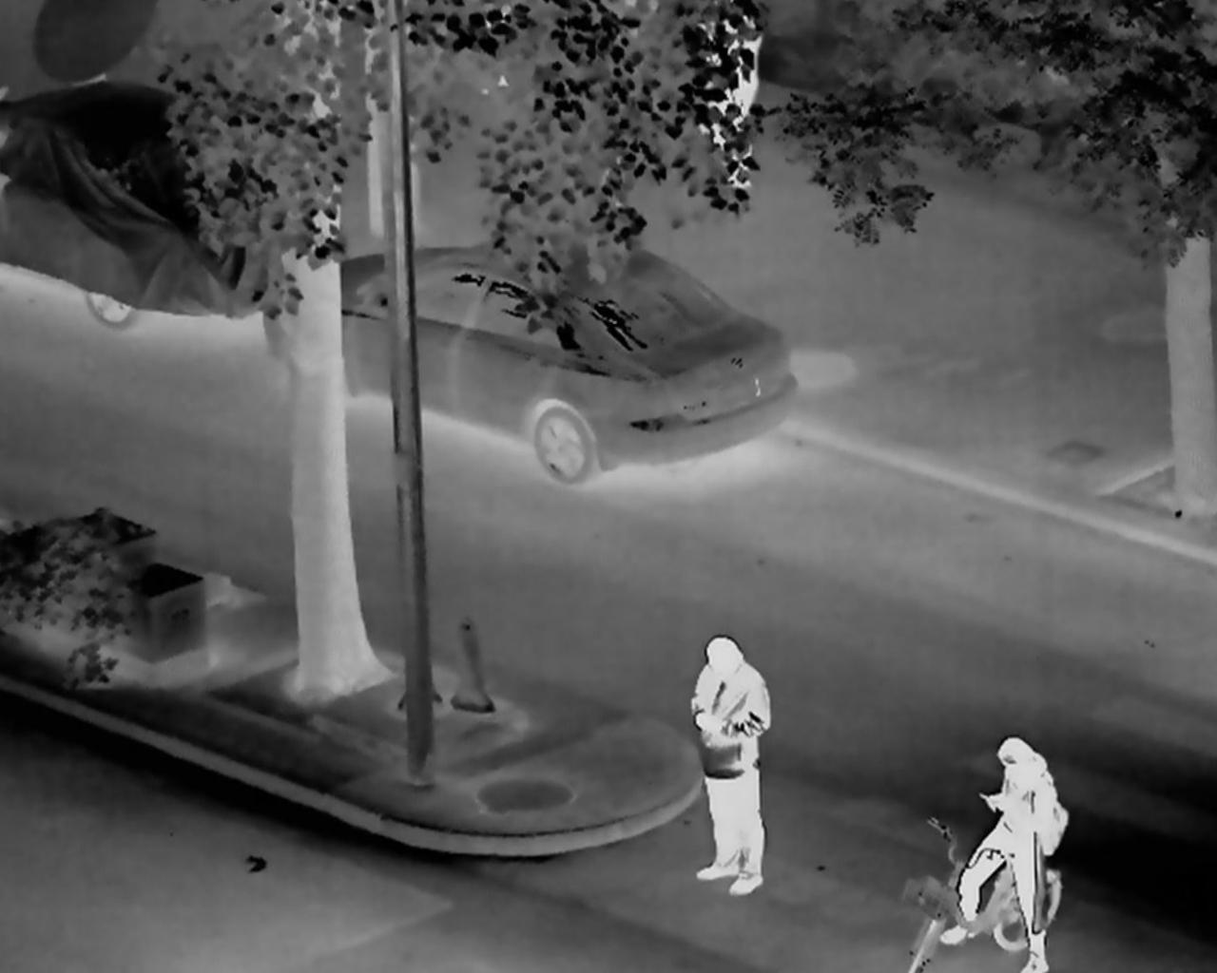person: (938, 739, 1070, 973), (691, 637, 774, 898), (684, 3, 763, 189)
